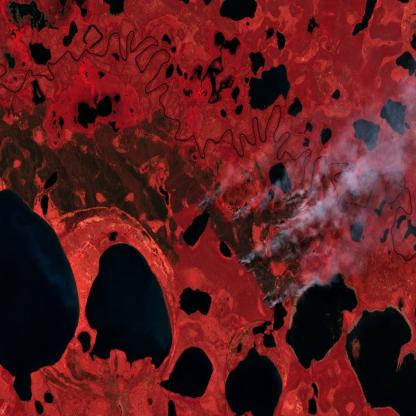fire: (195, 181, 323, 318)
